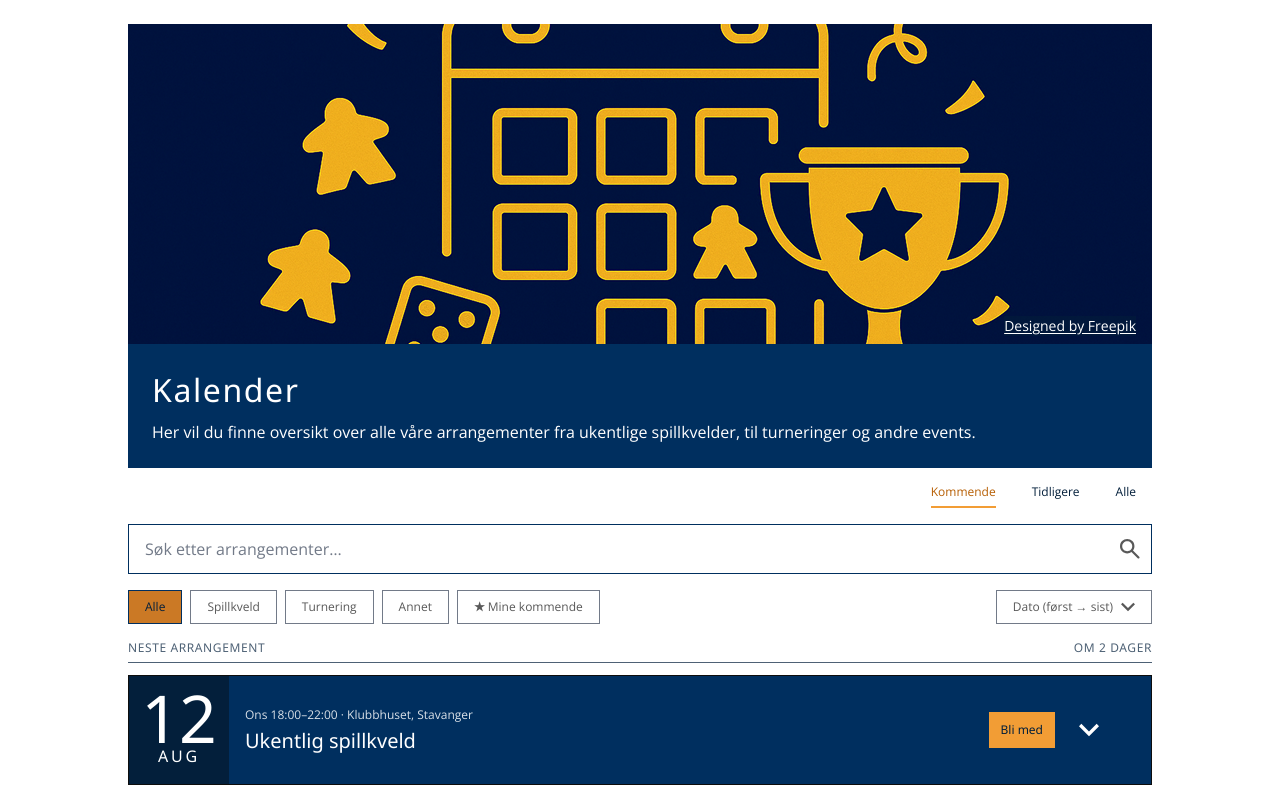
Test: CalendarSection › joins an event optimistically
Click the button with aria-label "Meld deg på".
click(1022, 730)  # box [988, 712, 1055, 748]
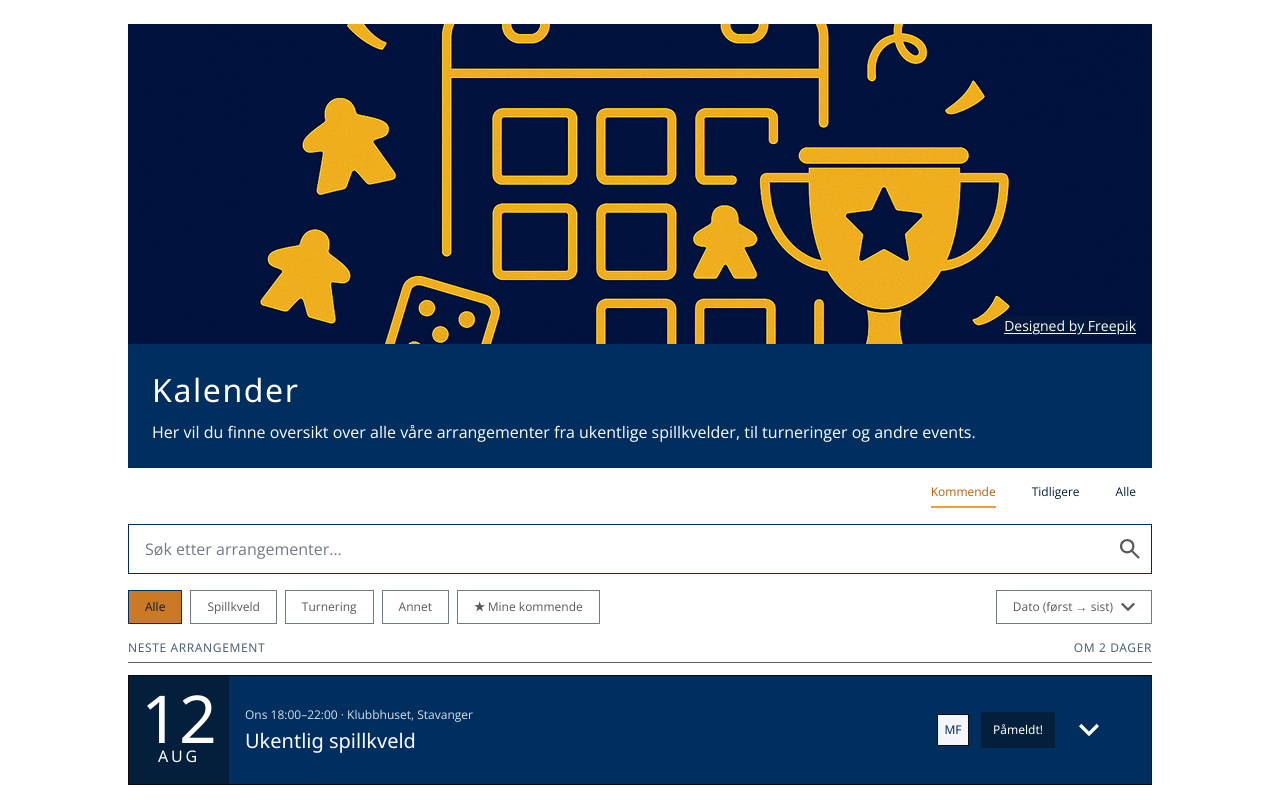
Now the button with aria-label "Meld deg av" reads "Påmeldt!", box [981, 712, 1055, 748]
